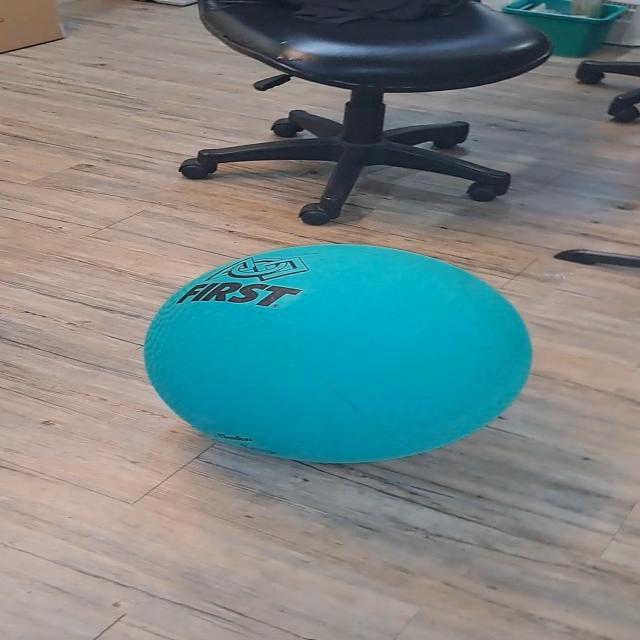ALGAE: (140, 242, 534, 464)
